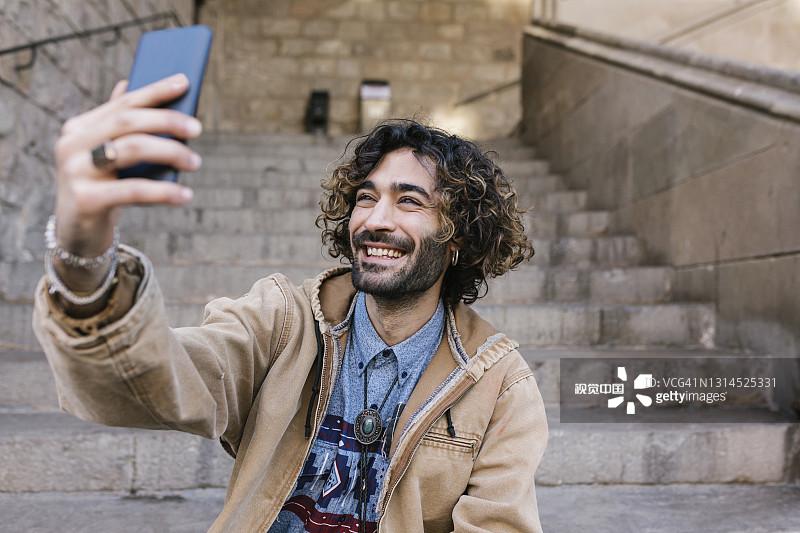taking photos: (39, 12, 230, 283)
